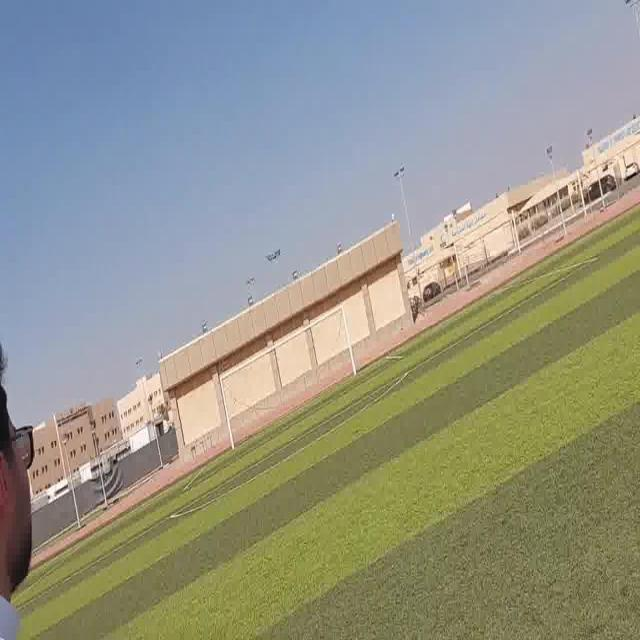drone: (262, 241, 286, 264)
